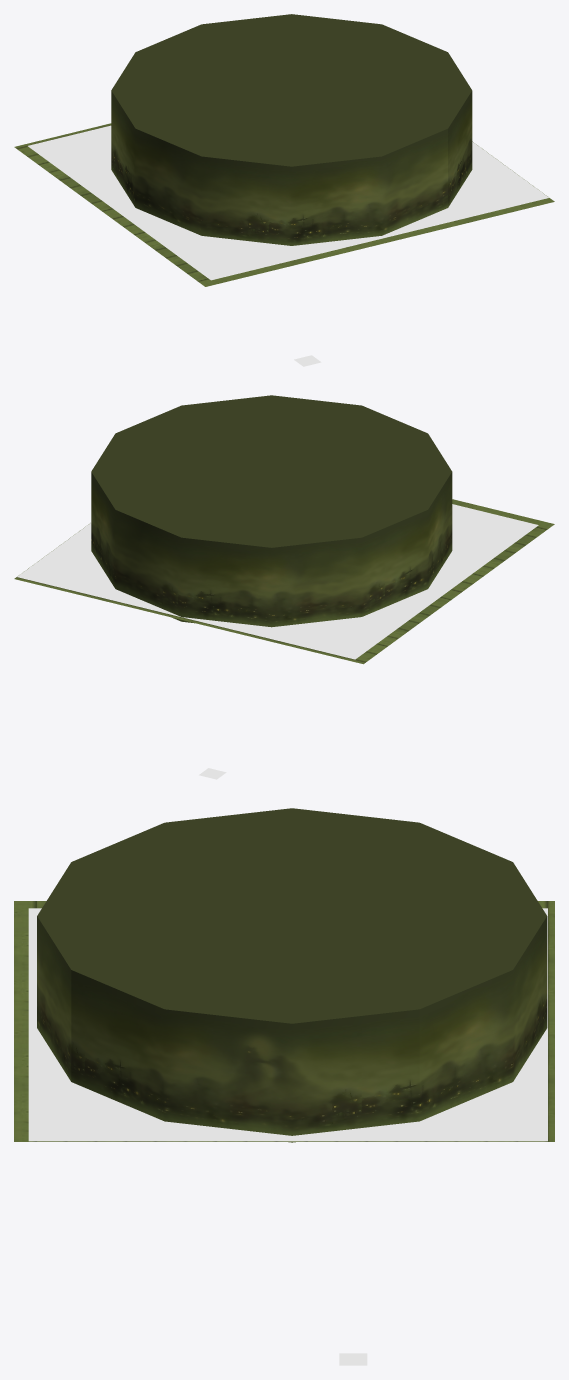
The model's file is abra.glb.
3 renders of one model, top to bottom at view 1: azimuth 30°, elevation 25°; view 2: azimuth 150°, elevation 25°; view 3: azimuth 270°, elevation 25°, orthographic. The views are drawn at different scales.
Parts seen in each view (by area): view 1: abrabackground, beachwater, abrasea2; view 2: abrabackground, beachwater, abrasea2; view 3: abrabackground, beachwater, abrasea2.
Part boxes in pixels (box(x1,y1,x2,y2)): abrabackground: box(111, 14, 472, 245); beachwater: box(28, 125, 548, 366); abrasea2: box(14, 123, 554, 286); abrabackground: box(91, 395, 452, 627); beachwater: box(17, 504, 538, 779); abrasea2: box(14, 499, 554, 664); abrabackground: box(37, 808, 547, 1142); beachwater: box(28, 908, 547, 1365); abrasea2: box(14, 901, 554, 1141).
Size of the model in its own units: 383 by 309 by 363.
Materials: 142 (141 with a texture image).
